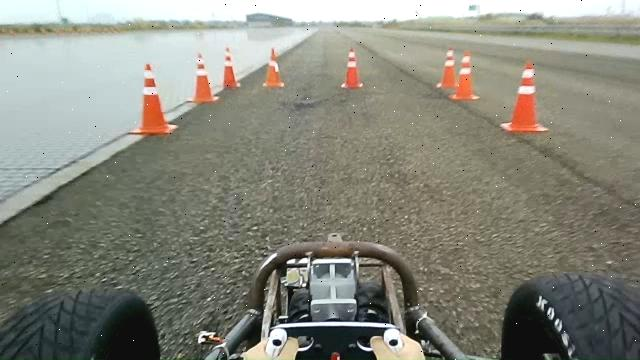red cone: (128, 63, 178, 134), (500, 60, 548, 133), (186, 52, 220, 103), (448, 50, 480, 100), (341, 46, 364, 89), (436, 46, 457, 90), (262, 47, 284, 88), (221, 45, 241, 89)
